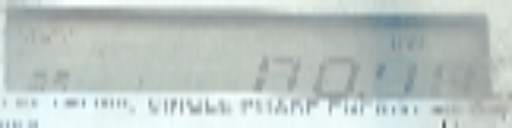0: (312, 56, 358, 96)
4: (373, 58, 419, 98)
7: (254, 56, 300, 96)
8: (427, 58, 473, 98)
d: (354, 91, 368, 99)
